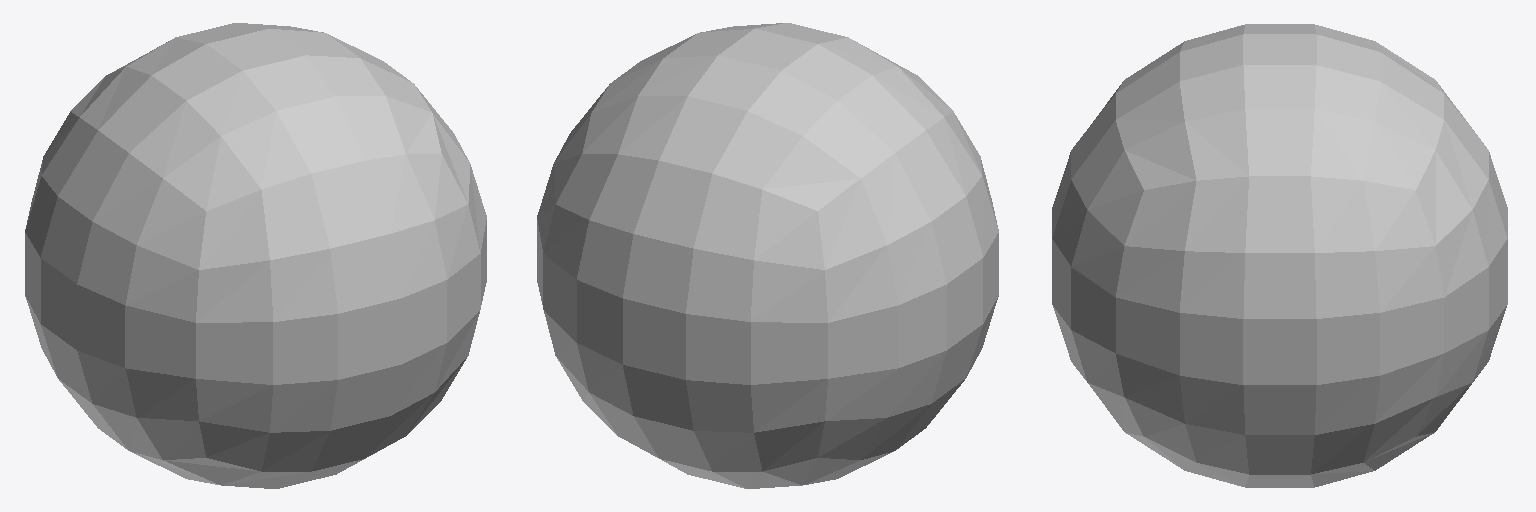
Rendered from shar_152.obj.
The picture shows the model from 3 angles: view 1: azimuth 30°, elevation 25°; view 2: azimuth 150°, elevation 25°; view 3: azimuth 270°, elevation 25°; orthographic projection.
Parts seen in each view (by area): view 1: Roundcube; view 2: Roundcube; view 3: Roundcube.
Part boxes in pixels (bbox=[...]): Roundcube: bbox=[25, 23, 486, 488]; Roundcube: bbox=[537, 23, 998, 488]; Roundcube: bbox=[1052, 24, 1507, 487].
Size of the model in its own units: 2 by 2 by 2.